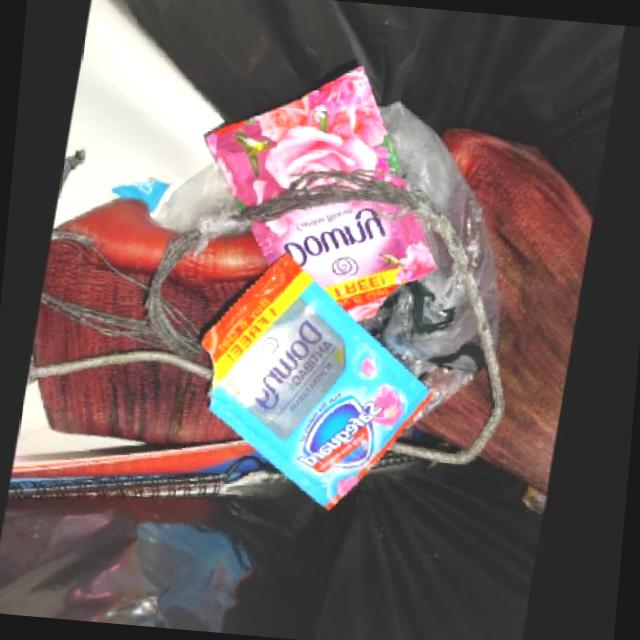carton: (52, 0, 220, 227), (5, 380, 276, 501)
goi_nhua_nho: (203, 66, 435, 321), (201, 251, 432, 506)
vo_rau_cu: (25, 198, 267, 444), (440, 125, 593, 496), (410, 365, 492, 449)
